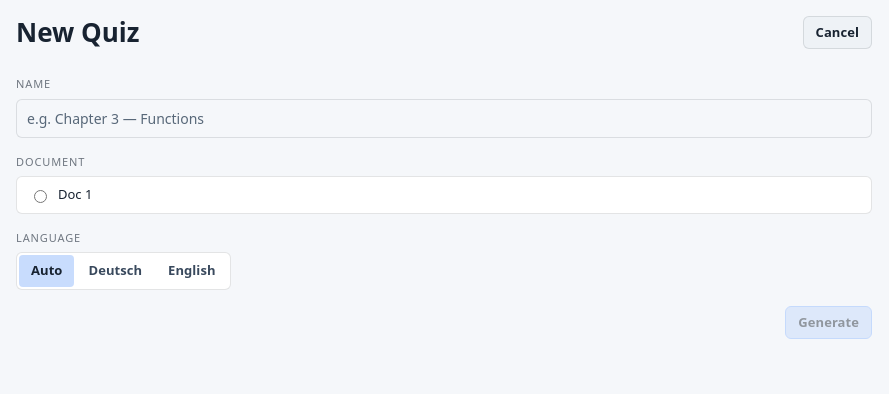
Test: CreateQuizDialog › shows the section + question estimate once a document is selected
Expected: the text "sections" is not shown
Step 1. Click the radio button labelled "Doc 1" → (40, 196), box x1=34 y1=190 x2=47 y2=203
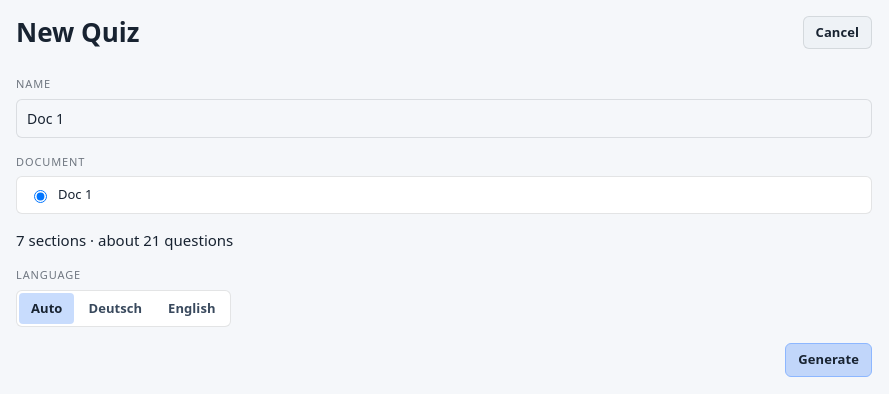
Expected: the text "7 sections · about 21 questions" is shown, x1=16 y1=230 x2=233 y2=250
